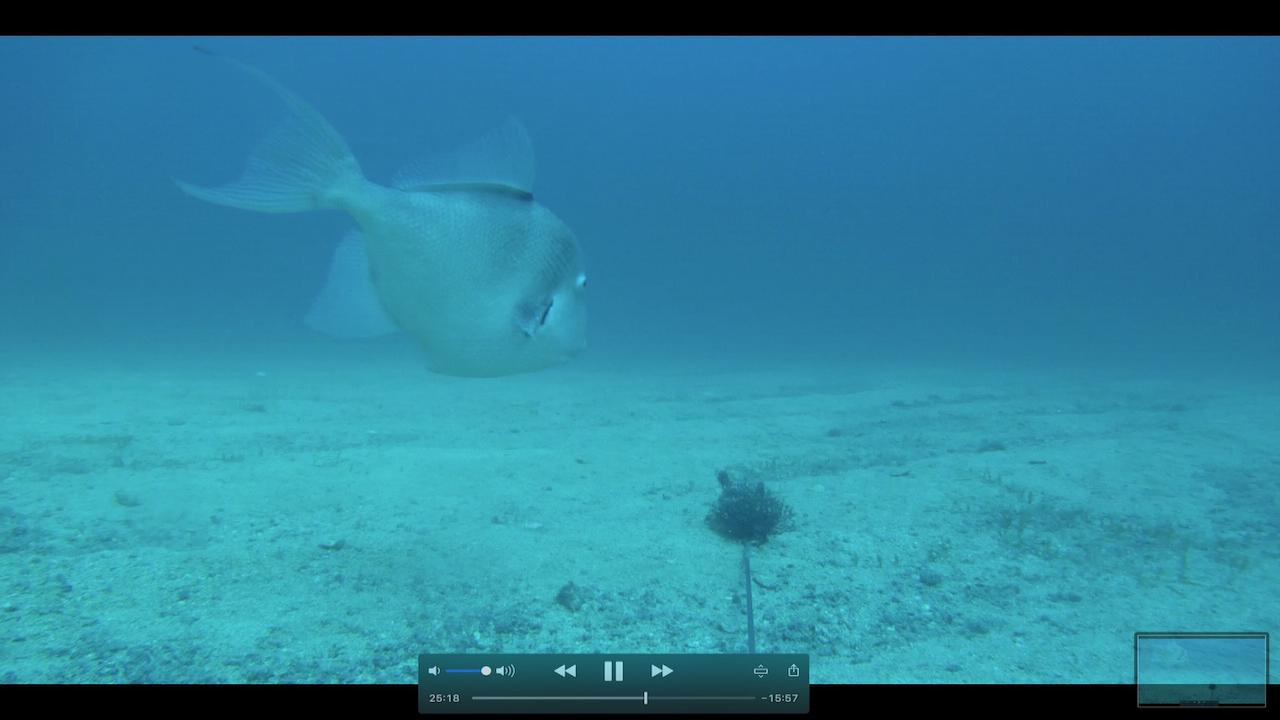balistes: (157, 40, 601, 378)
